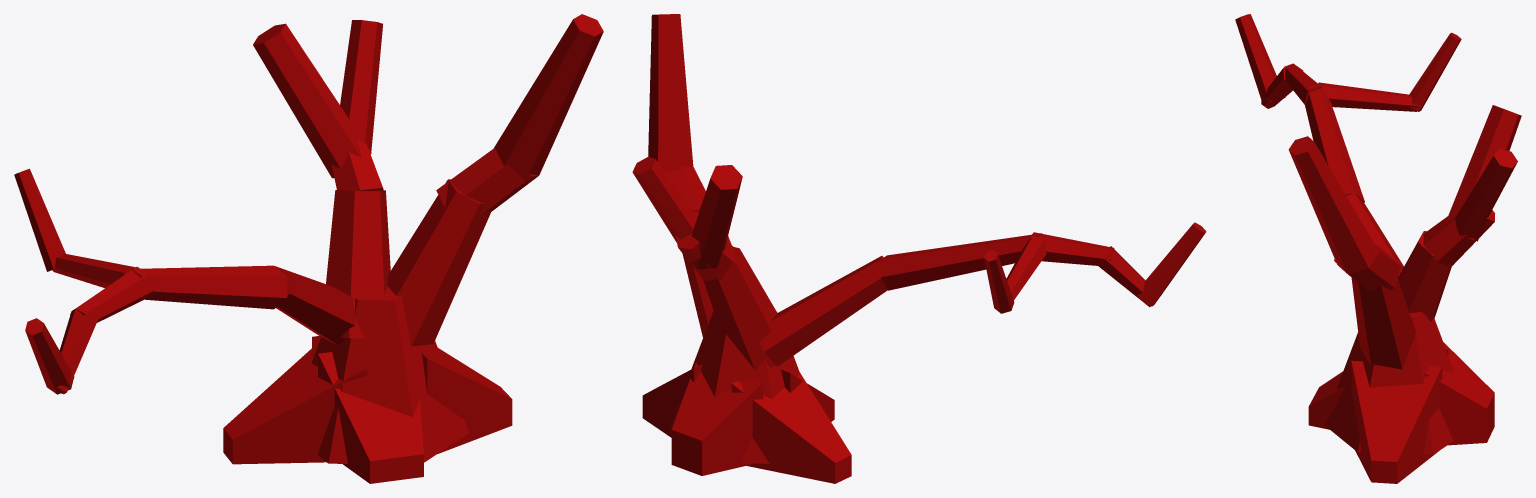
Rendered from SM_Env_Tree_Pohutukawa_01_Collision.glb.
The picture shows the model from 3 angles, left to right: view 1: azimuth 30°, elevation 25°; view 2: azimuth 150°, elevation 25°; view 3: azimuth 270°, elevation 25°; orthographic projection. The views are drawn at different scales.
Visible parts, largest first — view 1: SM_Env_Tree_Pohutukawa_01_Collision; view 2: SM_Env_Tree_Pohutukawa_01_Collision; view 3: SM_Env_Tree_Pohutukawa_01_Collision.
Boxes of the visible parts, box(x1,y1,x2,y2) form: SM_Env_Tree_Pohutukawa_01_Collision: box(14, 14, 603, 483); SM_Env_Tree_Pohutukawa_01_Collision: box(632, 14, 1206, 483); SM_Env_Tree_Pohutukawa_01_Collision: box(1235, 14, 1521, 483).
Bounding box in the file's own units: 4.88 × 3.28 × 2.4.
